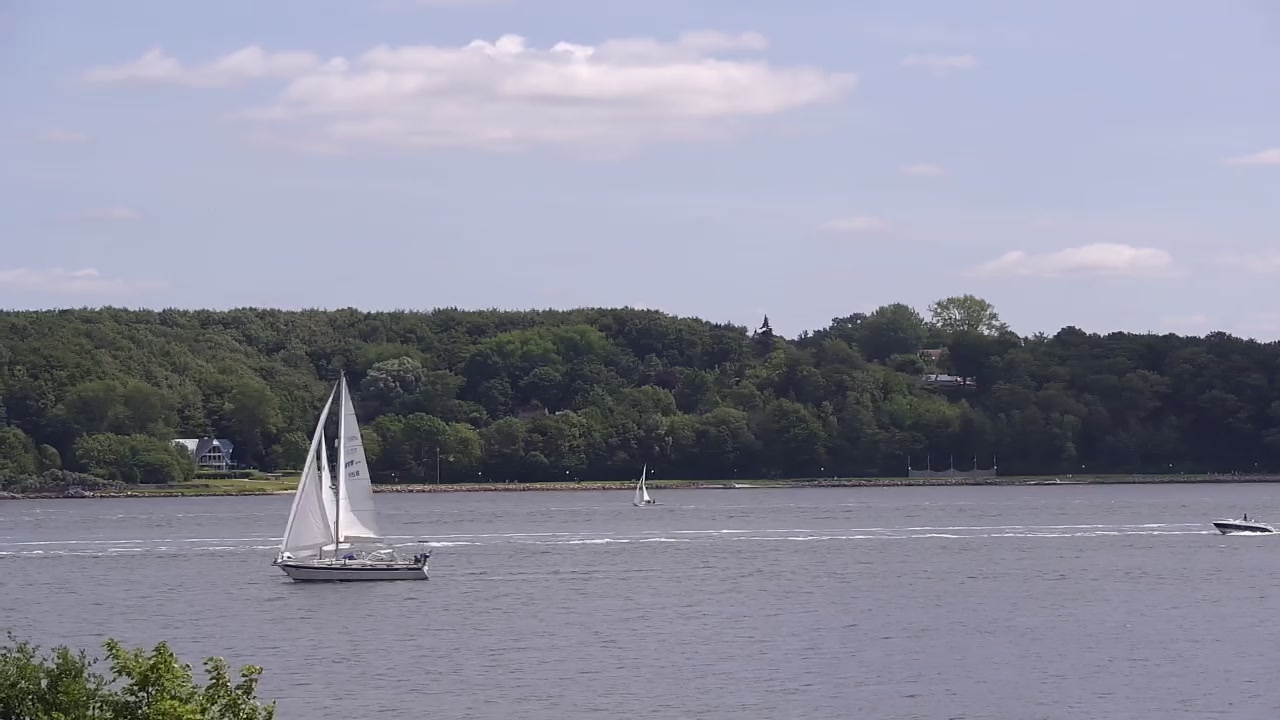sea: (269, 367, 433, 582), (629, 461, 663, 507), (1211, 512, 1278, 534)
